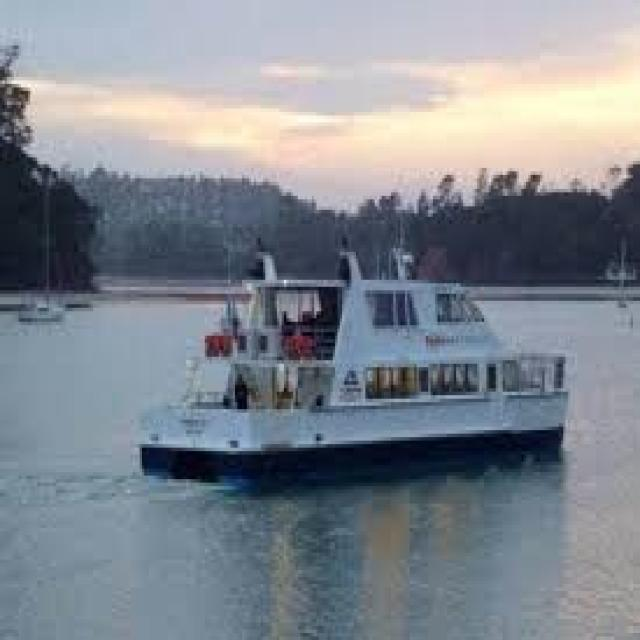passenger ship: (139, 209, 576, 474)
